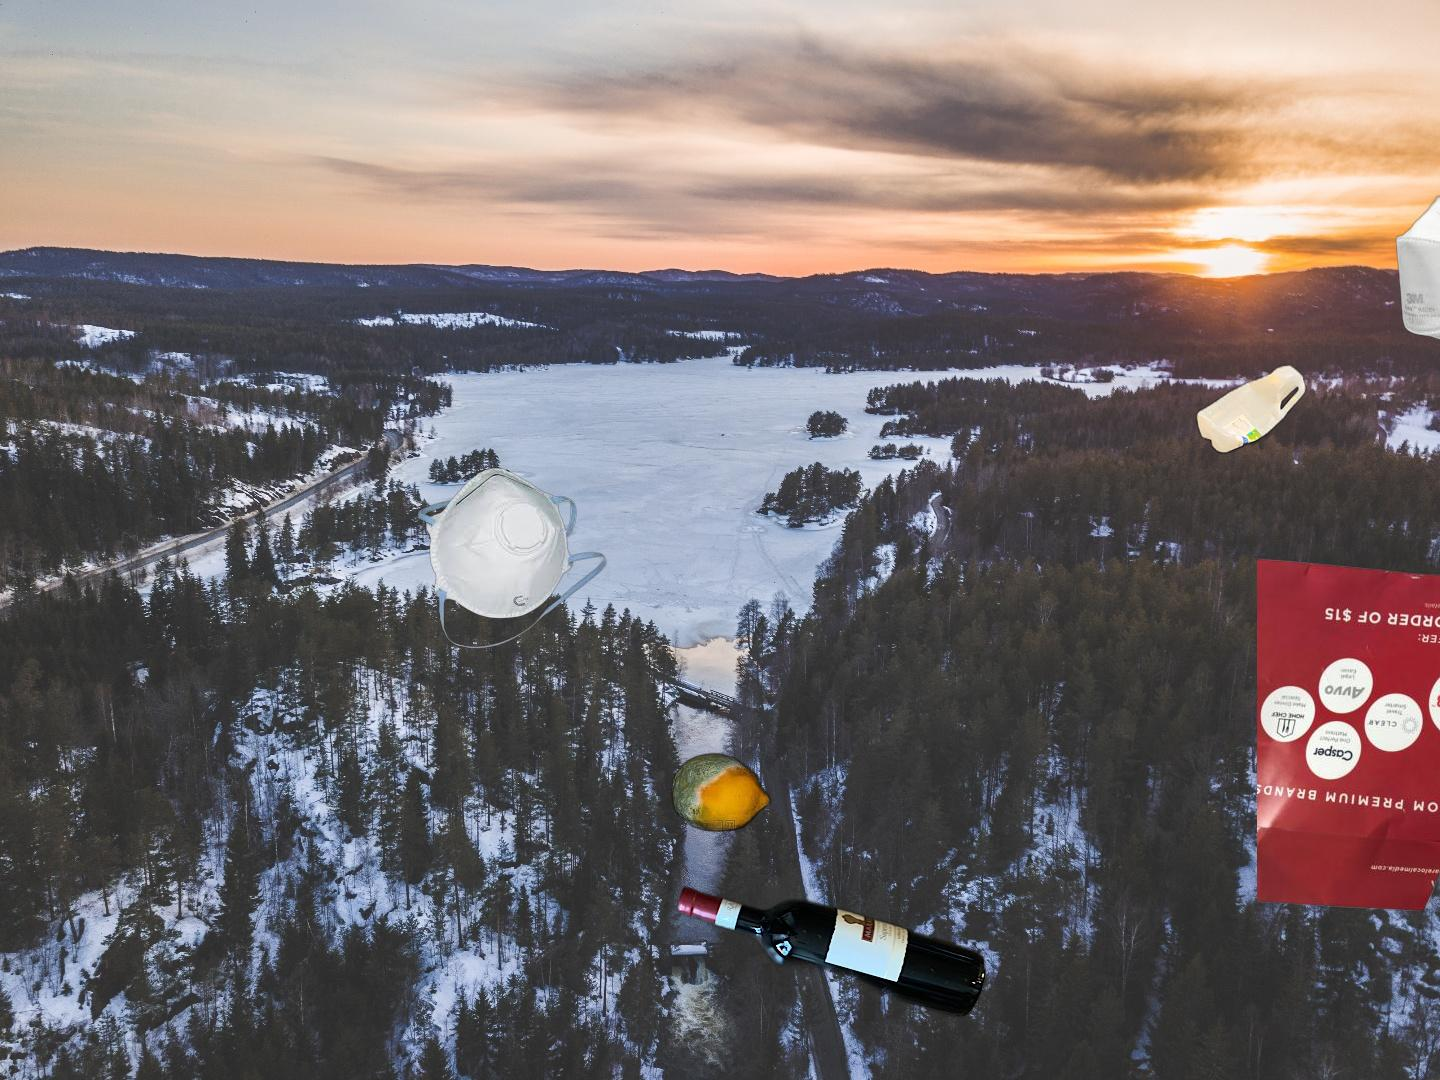biological: (670, 750, 774, 911)
glass: (672, 881, 991, 1023)
paper: (1257, 555, 1440, 939)
plastic-bottles: (1089, 106, 1310, 459)
trash: (415, 465, 608, 651), (1394, 192, 1440, 356)
